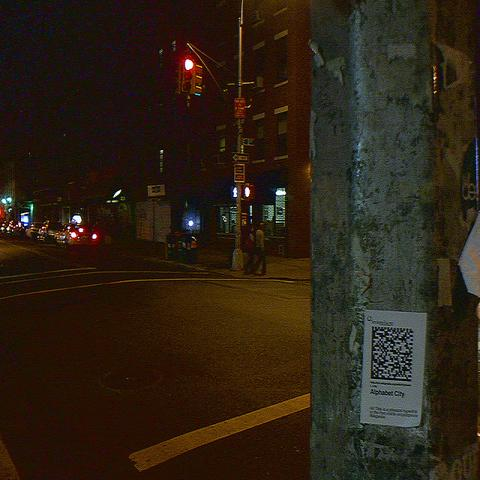car: (54, 222, 100, 250), (37, 221, 60, 243), (26, 222, 44, 240), (48, 231, 55, 237)
